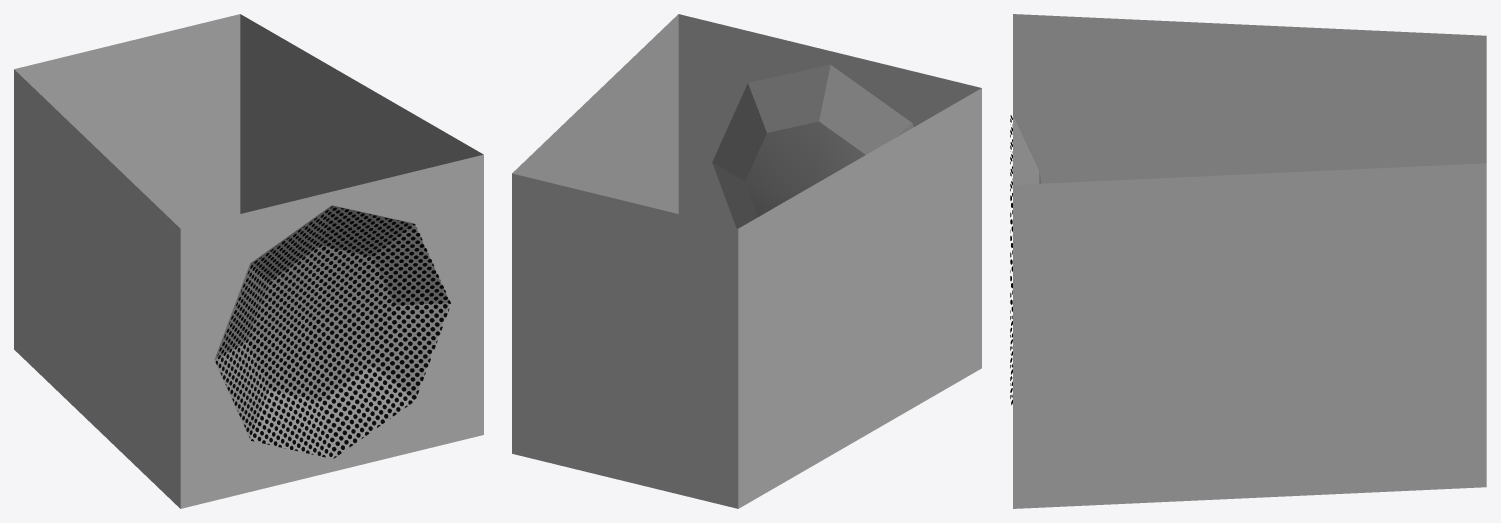
File: Itr_Obj_Speaker3_Middle_01.FBX
3 renders of one model, left to right at view 1: azimuth 30°, elevation 25°; view 2: azimuth 150°, elevation 25°; view 3: azimuth 270°, elevation 25°, orthographic. The views are drawn at different scales.
Parts seen in each view (by area): view 1: Itr_Obj_Speaker3_Middle_01; view 2: Itr_Obj_Speaker3_Middle_01; view 3: Itr_Obj_Speaker3_Middle_01.
Boxes of the visible parts, box(x1,y1,x2,y2) form: Itr_Obj_Speaker3_Middle_01: box(14, 14, 483, 508); Itr_Obj_Speaker3_Middle_01: box(512, 14, 981, 508); Itr_Obj_Speaker3_Middle_01: box(1010, 14, 1486, 508).
Bounding box in the file's own units: 9.88 × 8.72 × 11.62.
